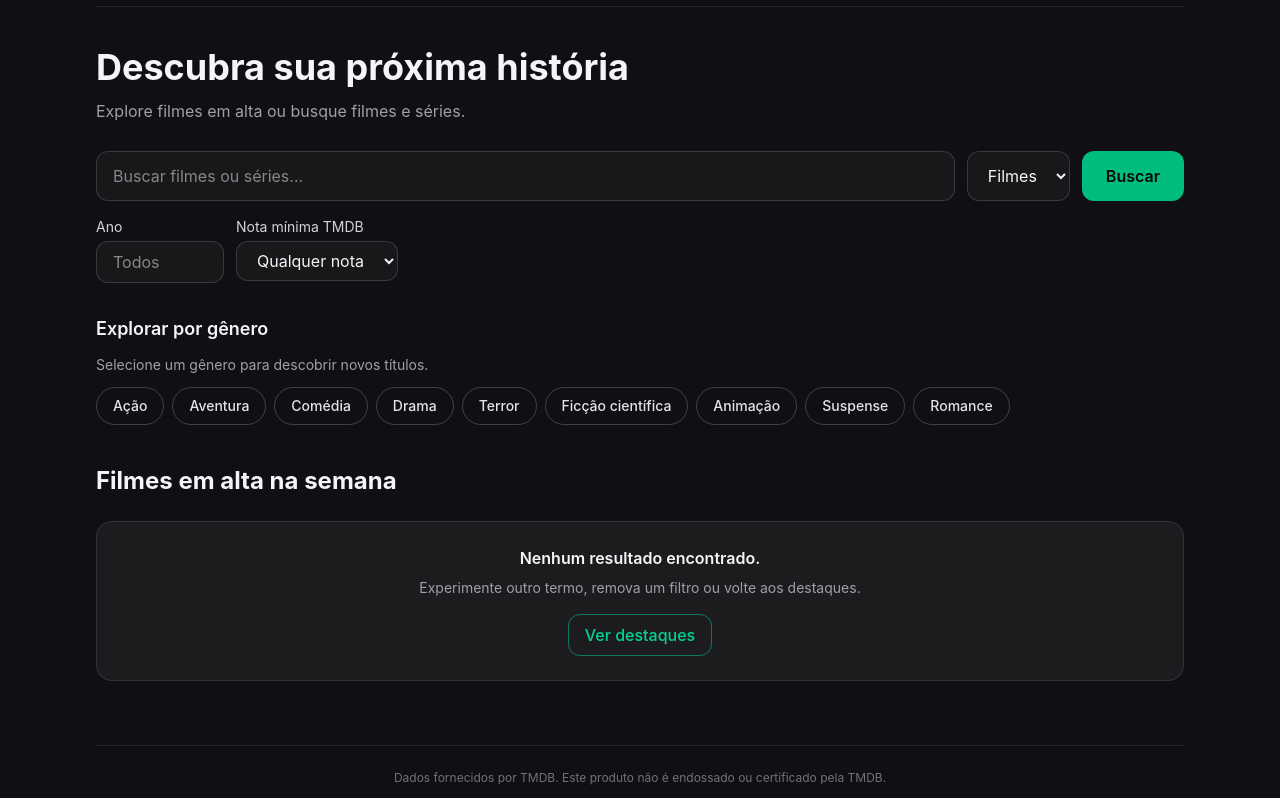
Test: paginação do catálogo › appends results without duplicates and hides the button on the last page
This screenshot has width=1280, height=798.
expect the text "Nenhum resultado encontrado." is shown: met, box [520, 548, 760, 568]
Step 1. Type "Batman" into the search field named "Buscar título" → (525, 176), box [96, 151, 955, 201]
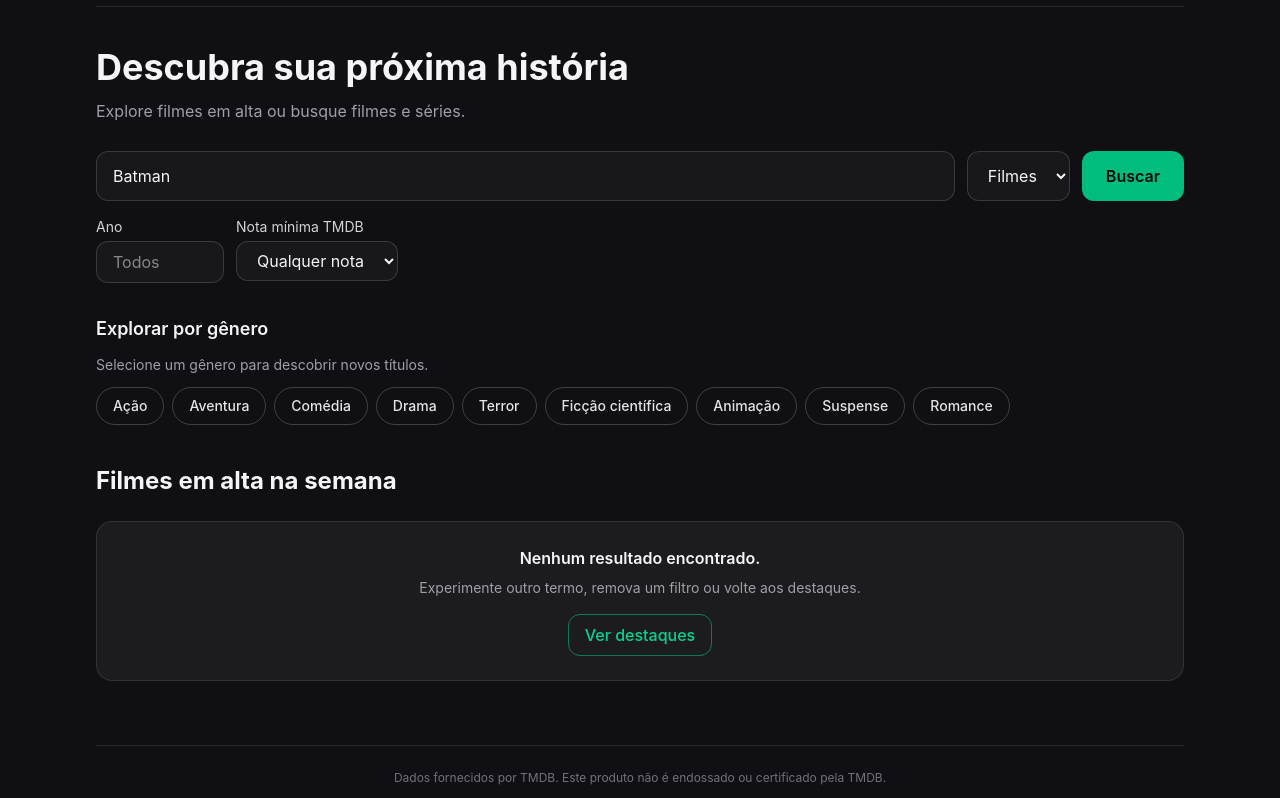
Step 2. Click the button "Buscar" → (1133, 176), box [1082, 151, 1184, 201]
(page scrolled)
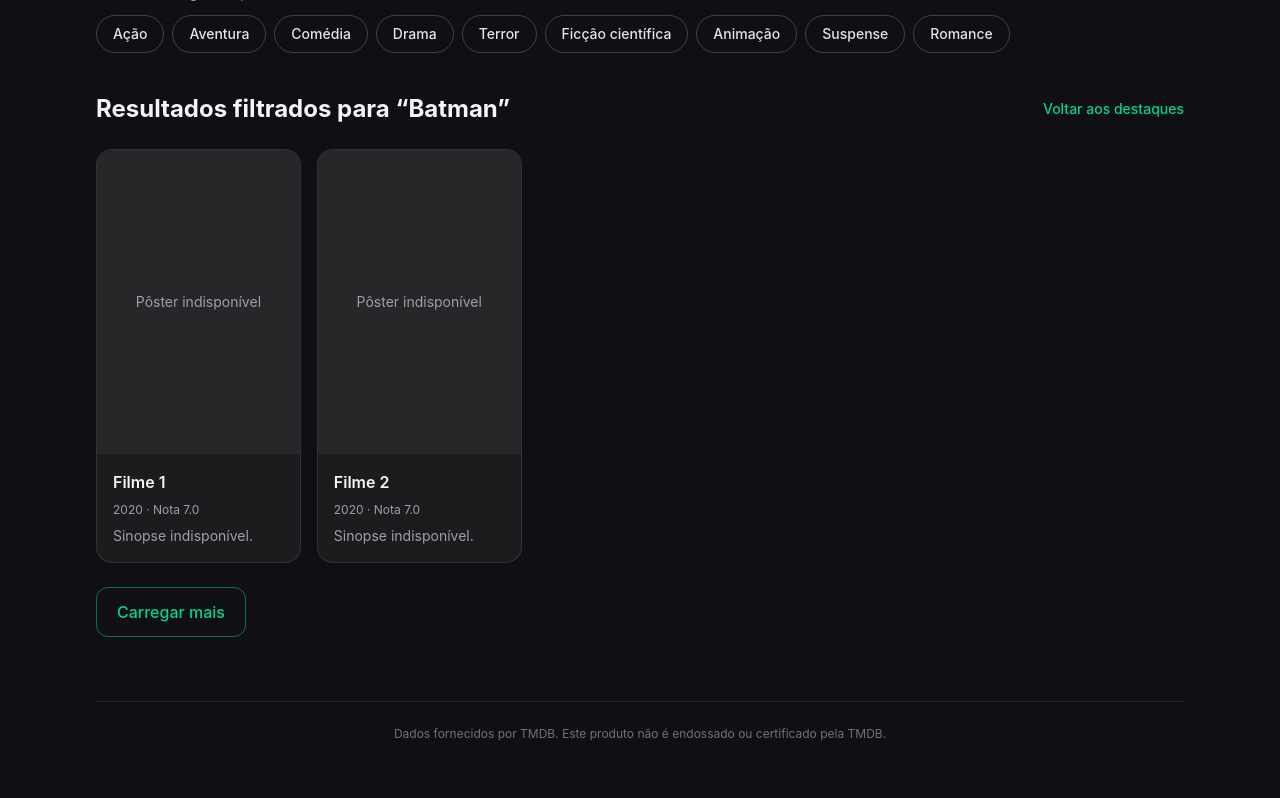
expect the heading "Filme 1" is shown: met, box [113, 472, 166, 492]
Step 3. Click the button "Carregar mais" → (171, 612), box [96, 587, 246, 637]
(page scrolled)
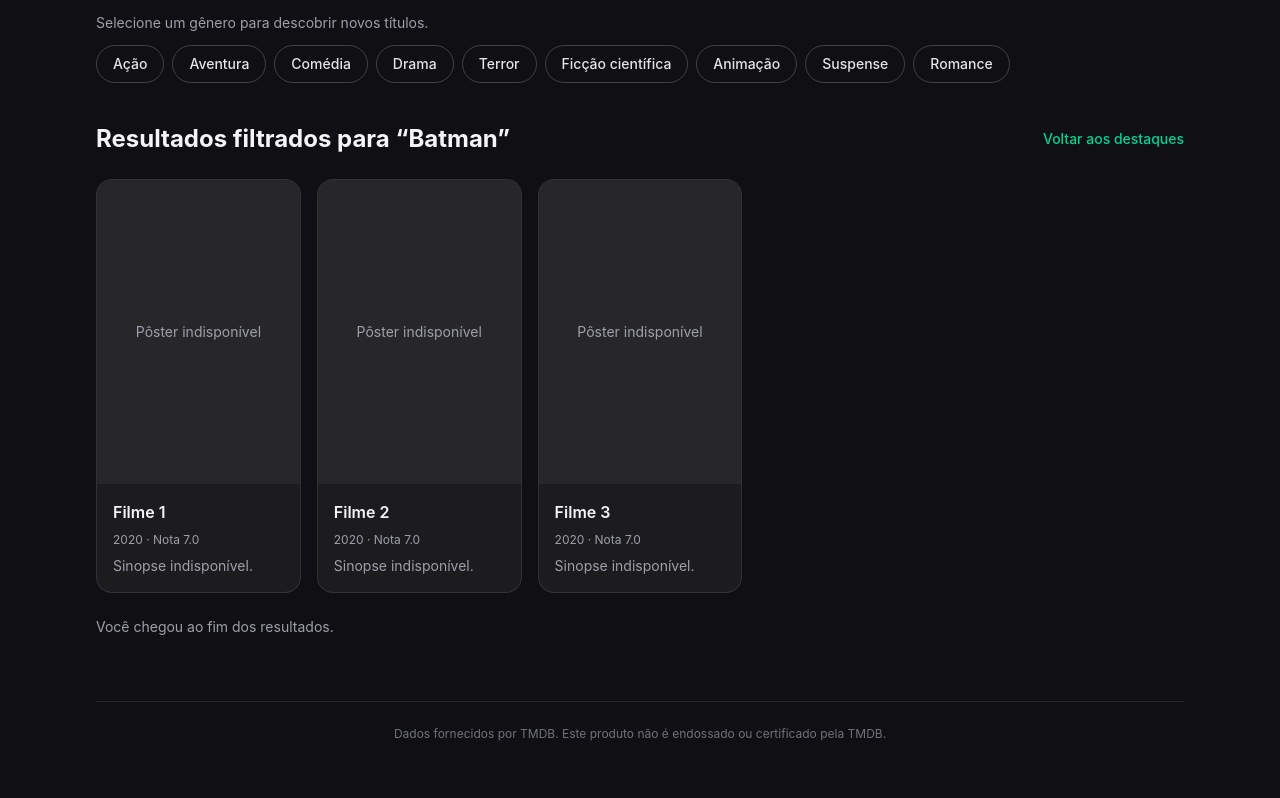
expect the heading "Filme 3" is shown: met, box [555, 502, 610, 522]
expect the number of headings "Filme 2" is 1: met, box [334, 502, 390, 522]
expect the button "Carregar mais" is gone: met
